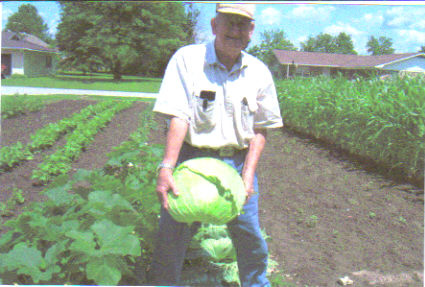cabbage: (166, 157, 245, 224)
